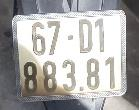1: (94, 16, 106, 57), (104, 54, 117, 90)
3: (60, 57, 78, 93)
6: (28, 22, 47, 55)
7: (46, 19, 62, 56)
8: (84, 56, 101, 93), (22, 58, 39, 94), (42, 59, 58, 94)
D: (78, 17, 93, 54)
